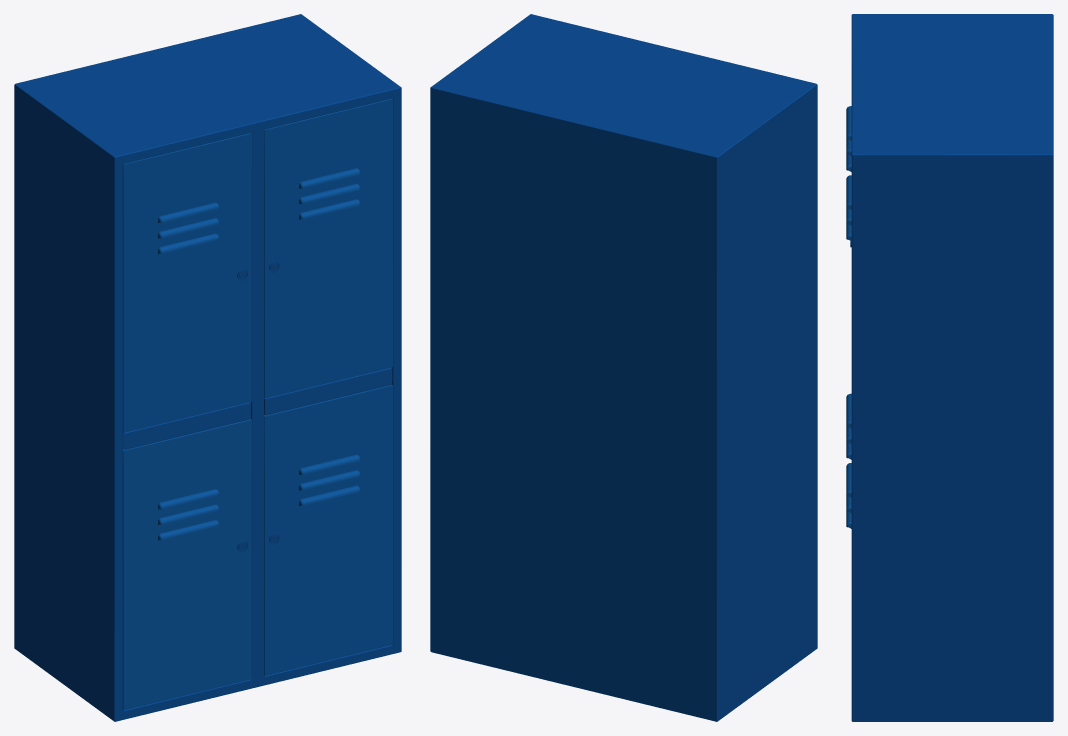
Rendered from SM_Locker_Doors_4Up_Closed_Blue.fbx.
3 renders of one model, left to right at view 1: azimuth 30°, elevation 25°; view 2: azimuth 150°, elevation 25°; view 3: azimuth 270°, elevation 25°, orthographic.
Visible parts, largest first — view 1: SM_Locker_Doors_4Up_Closed_Blue; view 2: SM_Locker_Doors_4Up_Closed_Blue; view 3: SM_Locker_Doors_4Up_Closed_Blue.
Boxes of the visible parts, x1,y1,x2,y2 form: SM_Locker_Doors_4Up_Closed_Blue: (14,14,401,721); SM_Locker_Doors_4Up_Closed_Blue: (430,14,817,721); SM_Locker_Doors_4Up_Closed_Blue: (846,14,1053,721).
Bounding box in the file's own units: 115 × 215 × 71.27.
